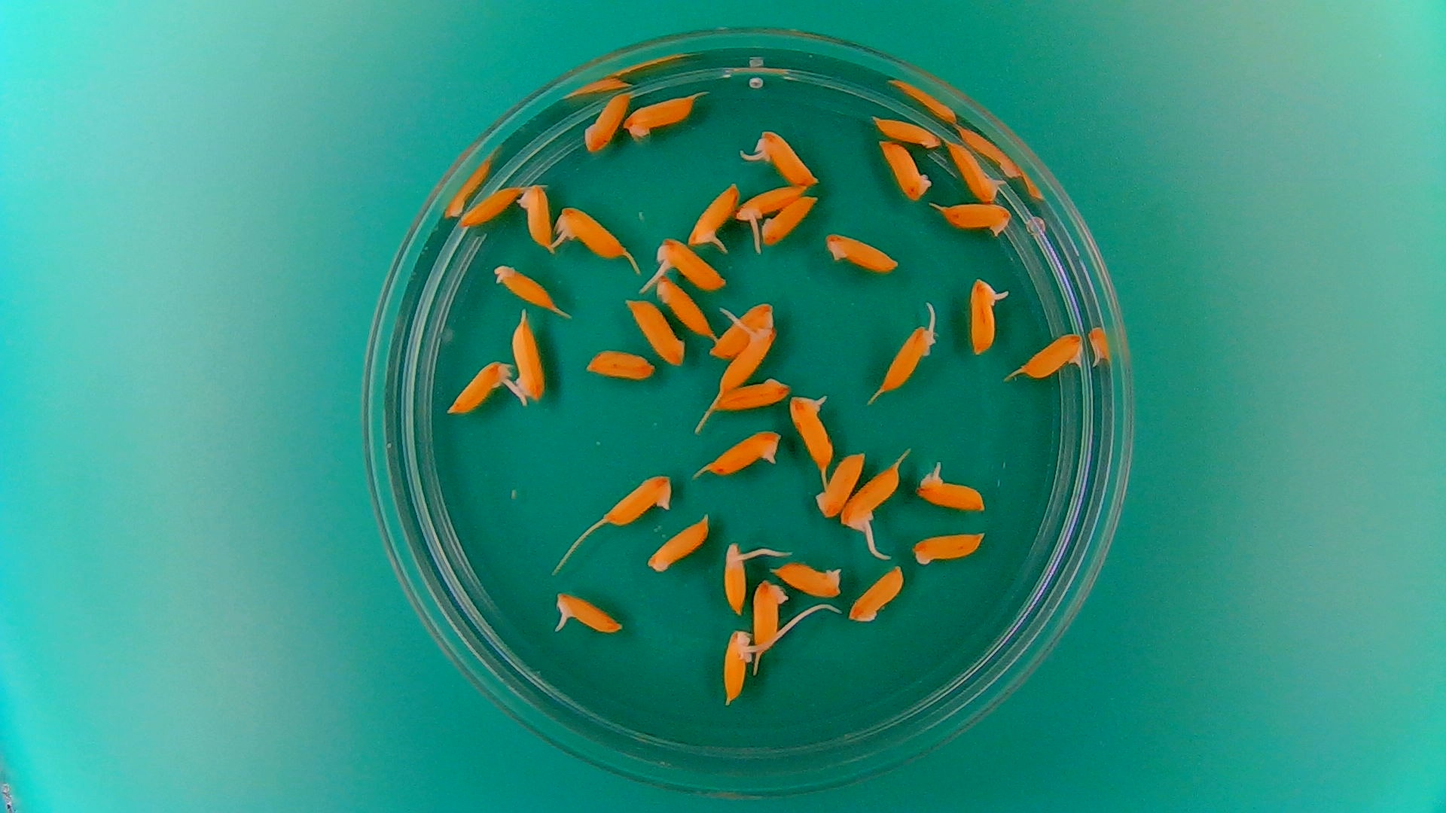no: (624, 296, 685, 367), (647, 513, 714, 574), (654, 274, 715, 340), (600, 472, 673, 526), (622, 91, 699, 142), (707, 303, 773, 361), (814, 448, 866, 519), (508, 309, 547, 403), (847, 564, 906, 624), (877, 139, 932, 202), (457, 180, 523, 231), (1019, 333, 1087, 382), (823, 230, 900, 273), (582, 88, 632, 154), (490, 262, 558, 310), (762, 191, 819, 247), (770, 558, 844, 598), (750, 577, 789, 652), (910, 528, 987, 565), (714, 376, 791, 412), (936, 202, 1013, 238), (516, 180, 554, 251), (584, 348, 655, 383), (871, 114, 944, 148)
yes: (944, 140, 1018, 204), (718, 316, 776, 396), (703, 426, 783, 479), (556, 206, 630, 263), (840, 460, 900, 529), (653, 236, 728, 291), (446, 357, 510, 416), (880, 324, 934, 393), (753, 131, 819, 187), (788, 395, 835, 473), (688, 180, 743, 246), (913, 466, 989, 513), (721, 536, 765, 617), (731, 184, 807, 229), (551, 591, 625, 636), (969, 278, 1008, 358), (720, 625, 758, 706)
